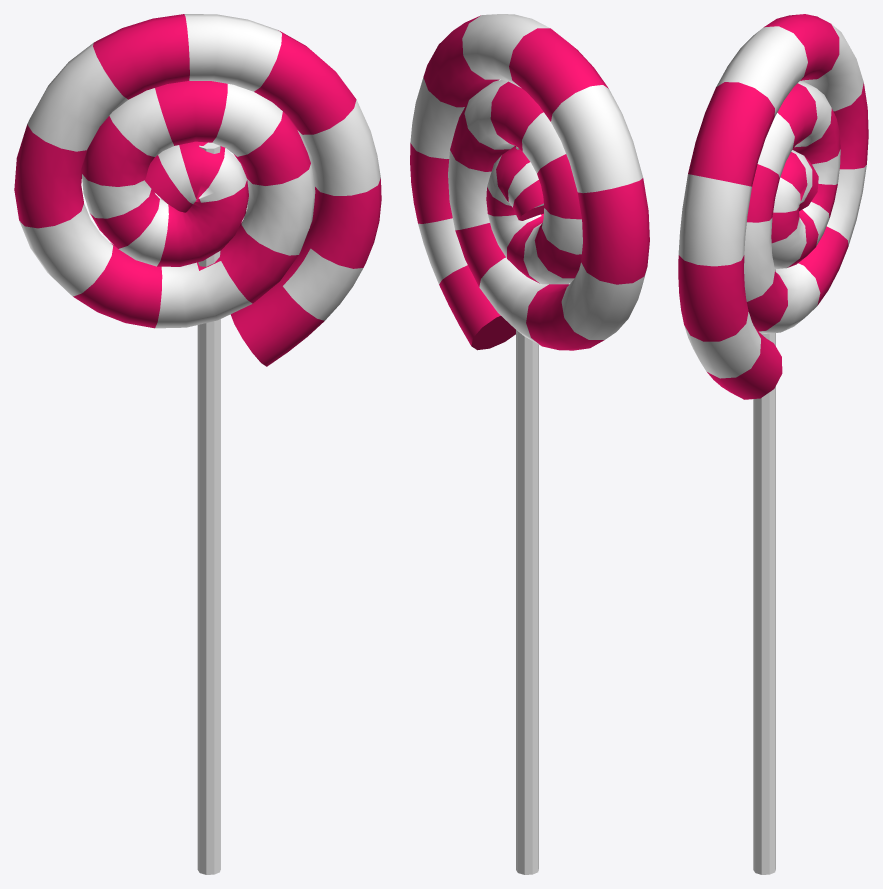
File: 025_Candy_GiantPop_01.fbx
3 views of the same model, side by side, from view 1: azimuth 30°, elevation 25°; view 2: azimuth 150°, elevation 25°; view 3: azimuth 270°, elevation 25° (orthographic).
Parts seen in each view (by area): view 1: BézierCurve.004, Cylinder.005; view 2: BézierCurve.004, Cylinder.005; view 3: BézierCurve.004, Cylinder.005.
Boxes of the visible parts, x1,y1,x2,y2 form: BézierCurve.004: (14,14,381,366); Cylinder.005: (197,142,220,874); BézierCurve.004: (410,14,649,350); Cylinder.005: (516,146,538,874); BézierCurve.004: (678,14,868,399); Cylinder.005: (753,268,775,874).
Size of the model in its own units: 142 by 391 by 80.74.
